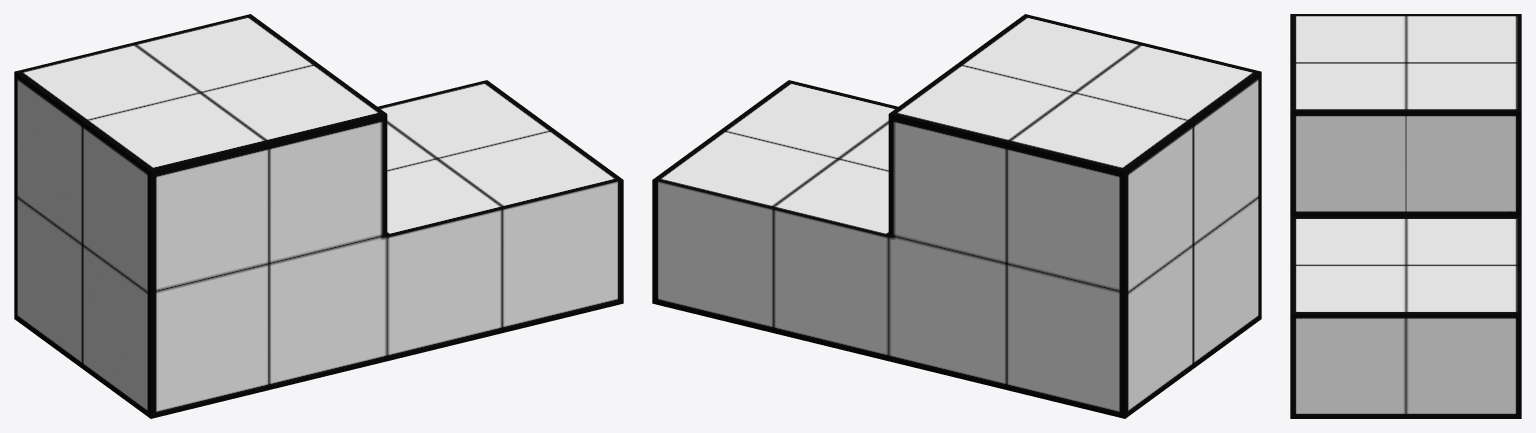
The model's file is fig8.glb.
3 renders of one model, left to right at view 1: azimuth 30°, elevation 25°; view 2: azimuth 150°, elevation 25°; view 3: azimuth 270°, elevation 25°, orthographic. The views are drawn at different scales.
Visible parts, largest first — view 1: root; view 2: root; view 3: root.
Boxes of the visible parts, x1,y1,x2,y2 form: root: [14, 14, 623, 418]; root: [652, 14, 1261, 418]; root: [1290, 14, 1521, 418].
Bounding box in the file's own units: 0.04 × 0.02 × 0.02.
6 materials, 6 textured.
